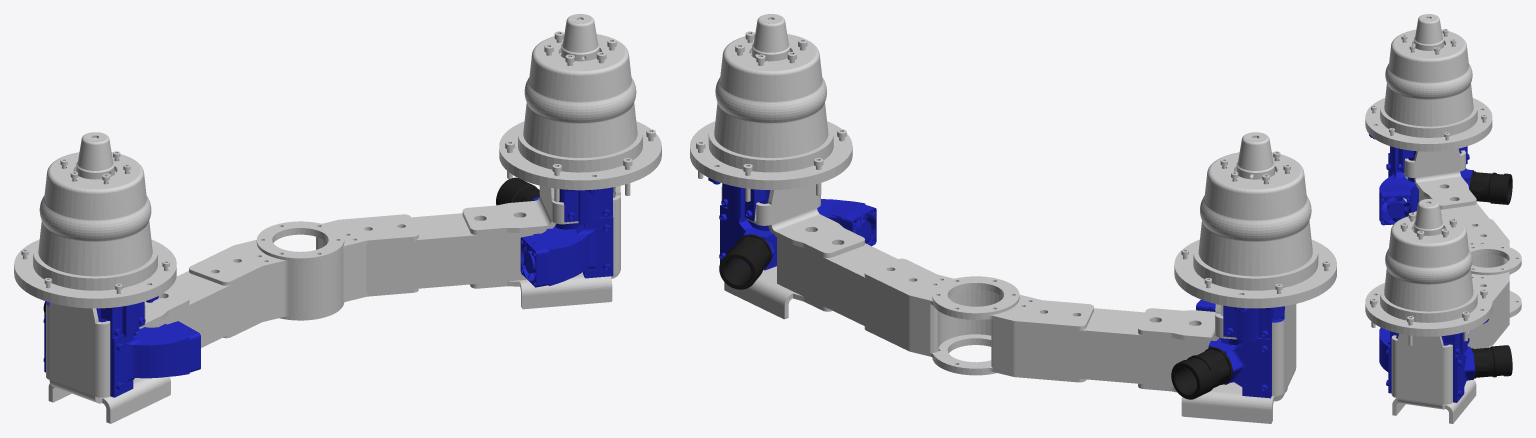
The model's file is zawieszenie_dol_prawe.dae.
3 renders of one model, left to right at view 1: azimuth 30°, elevation 25°; view 2: azimuth 150°, elevation 25°; view 3: azimuth 270°, elevation 25°, orthographic. The views are drawn at different scales.
Visible parts, largest first — view 1: Zawieszenie Dol Lewe.002; view 2: Zawieszenie Dol Lewe.002; view 3: Zawieszenie Dol Lewe.002.
Boxes of the visible parts, x1,y1,x2,y2 form: Zawieszenie Dol Lewe.002: (14, 14, 661, 423); Zawieszenie Dol Lewe.002: (690, 14, 1336, 423); Zawieszenie Dol Lewe.002: (1365, 14, 1521, 423).
Size of the model in its own units: 0.5371 by 0.1488 by 0.2199.
